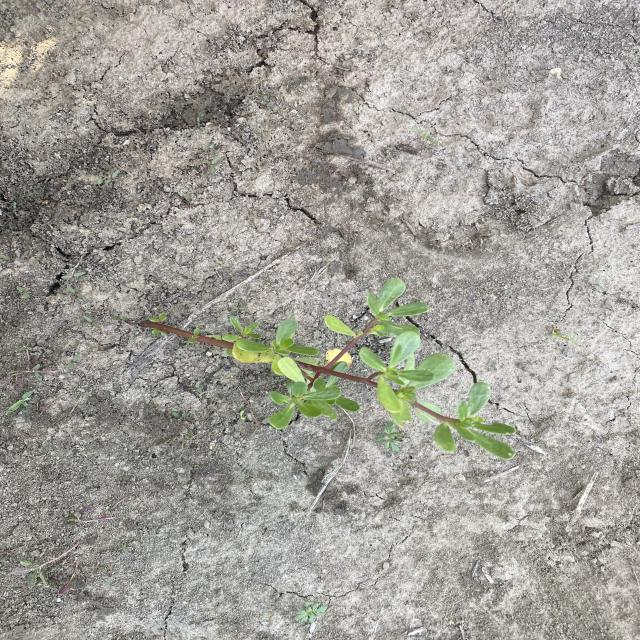Purslane: (137, 277, 520, 463)
